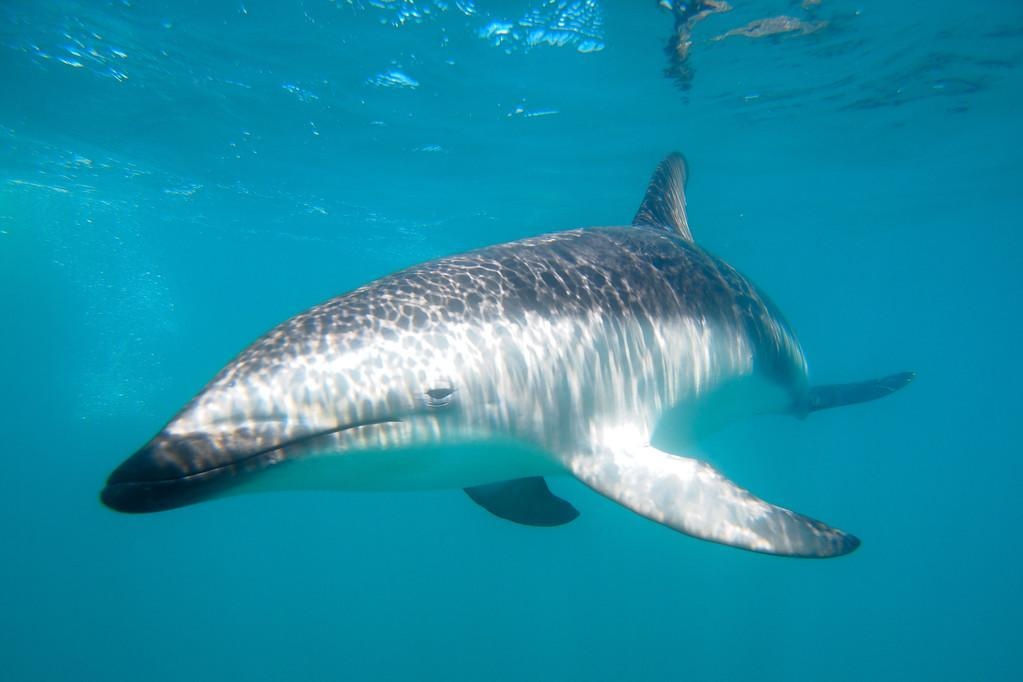fish: (99, 139, 919, 558)
